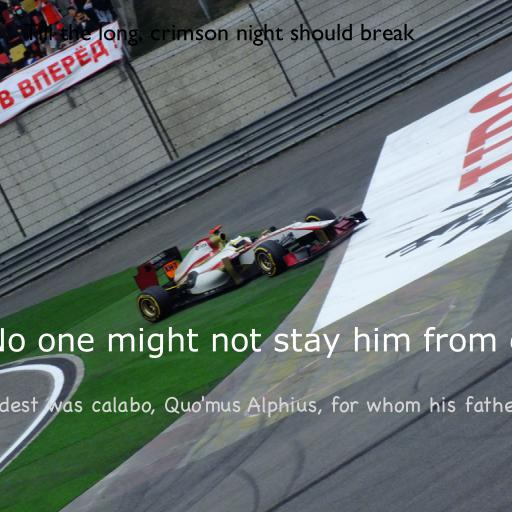Chalkboard: (0, 395, 512, 418)
Gill Sans: (24, 23, 414, 46)
Verdana: (0, 326, 512, 359)
